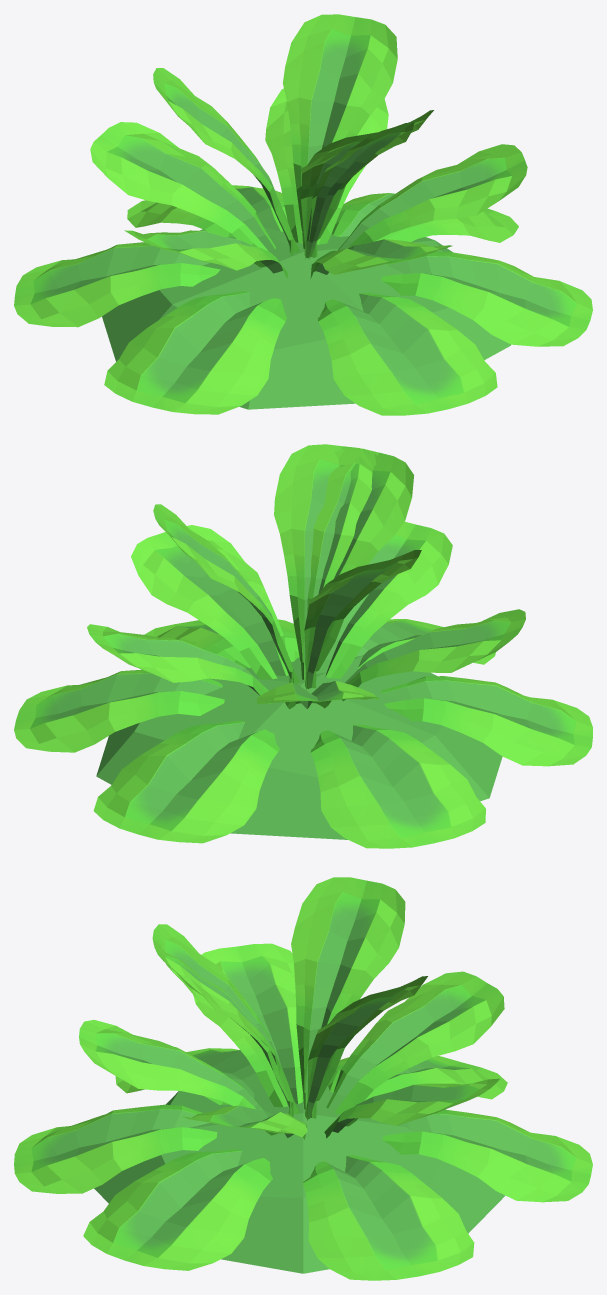
File: bush.gltf
3 views of the same model, one above another, from view 1: azimuth 30°, elevation 25°; view 2: azimuth 150°, elevation 25°; view 3: azimuth 270°, elevation 25° (orthographic).
Parts seen in each view (by area): view 1: Plane.003; view 2: Plane.003; view 3: Plane.003.
Part boxes in pixels (box(x1,y1,x2,y2)): Plane.003: box(14, 14, 592, 415); Plane.003: box(14, 444, 592, 848); Plane.003: box(14, 877, 592, 1280).
Bounding box in the file's own units: 10.65 × 5.24 × 11.2.
Materials: 1 (1 with a texture image).
